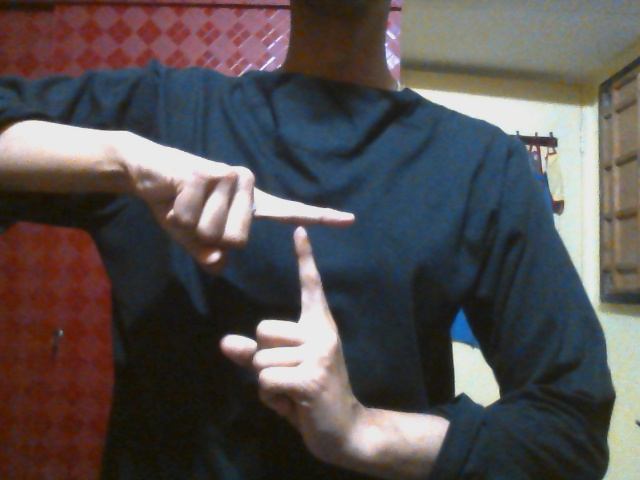T: (174, 163, 360, 443)
